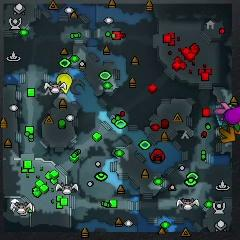p3: (225, 106, 240, 124)
p4: (56, 73, 72, 93)
p5: (235, 130, 240, 135)
x1: (215, 102, 230, 122)
x3: (216, 113, 223, 126)
x4: (222, 120, 240, 130)
x5: (219, 127, 235, 143)
